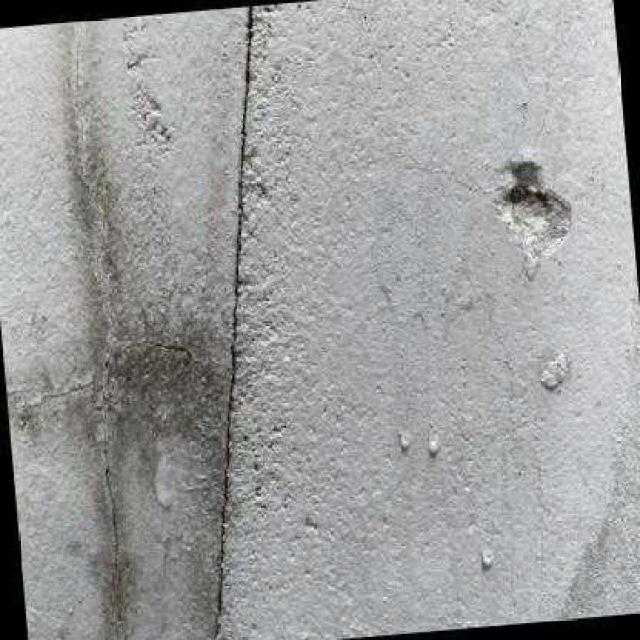D00: (19, 20, 118, 600), (209, 4, 255, 640), (116, 590, 125, 640)
